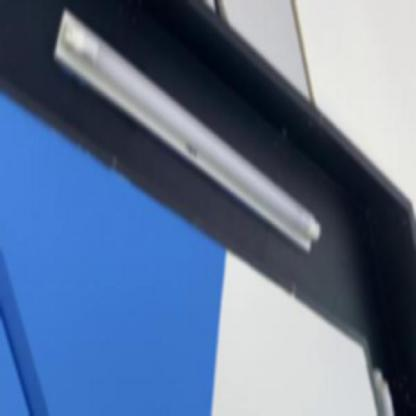light_off: (49, 2, 323, 260), (362, 348, 413, 415)
